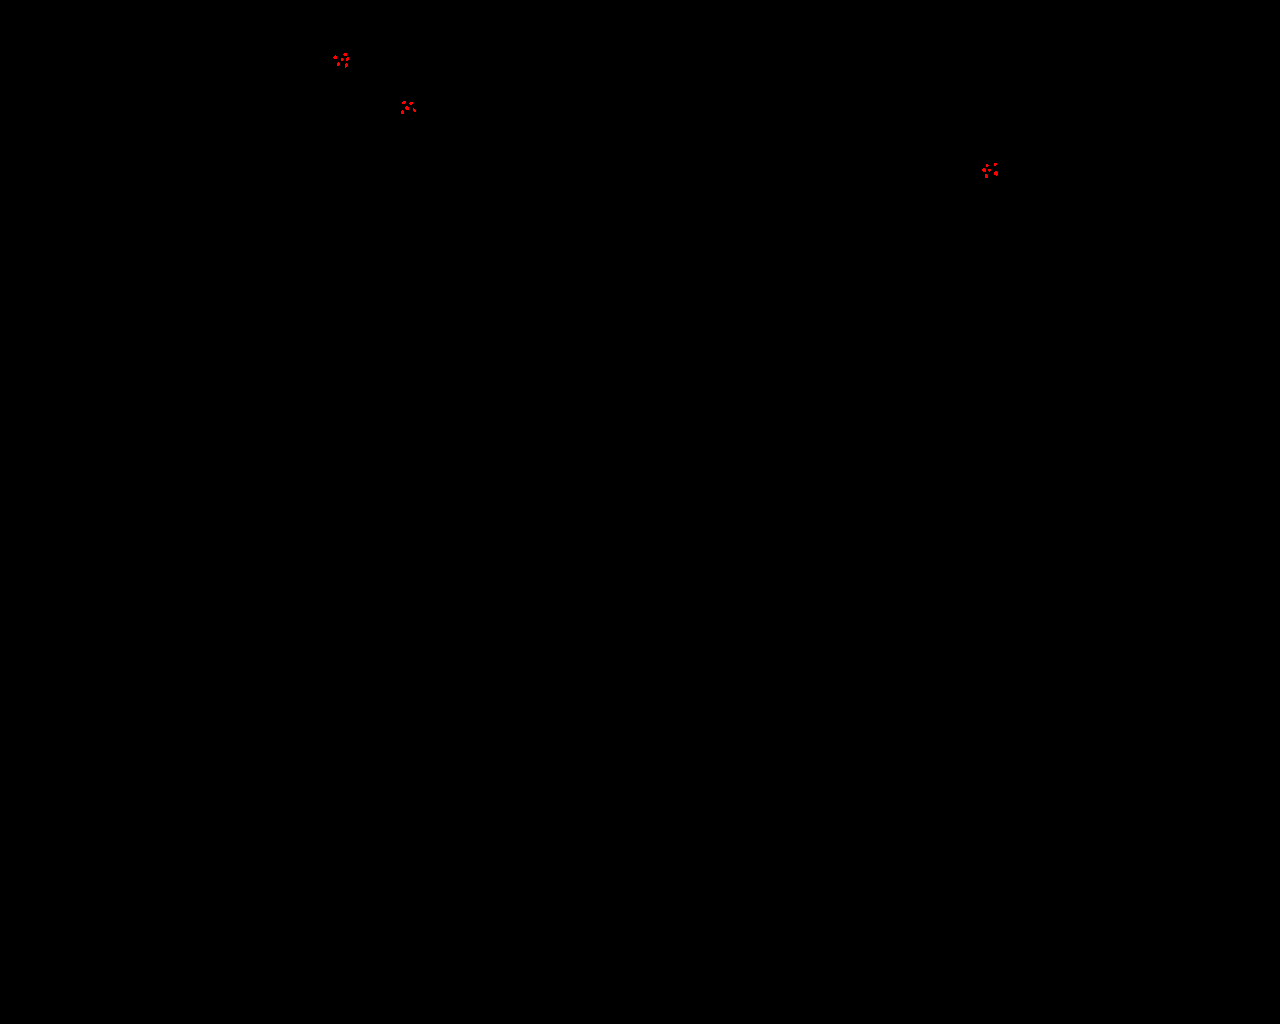Target: (982, 168, 986, 172), (994, 171, 998, 176), (345, 63, 348, 68), (343, 53, 347, 56), (333, 55, 338, 59), (402, 101, 406, 104), (405, 106, 409, 110), (413, 108, 416, 112), (401, 110, 404, 114), (346, 57, 349, 61), (994, 163, 997, 166), (986, 164, 990, 167), (985, 174, 988, 178), (338, 62, 340, 66), (409, 102, 413, 104), (341, 59, 344, 61), (988, 169, 991, 172)
